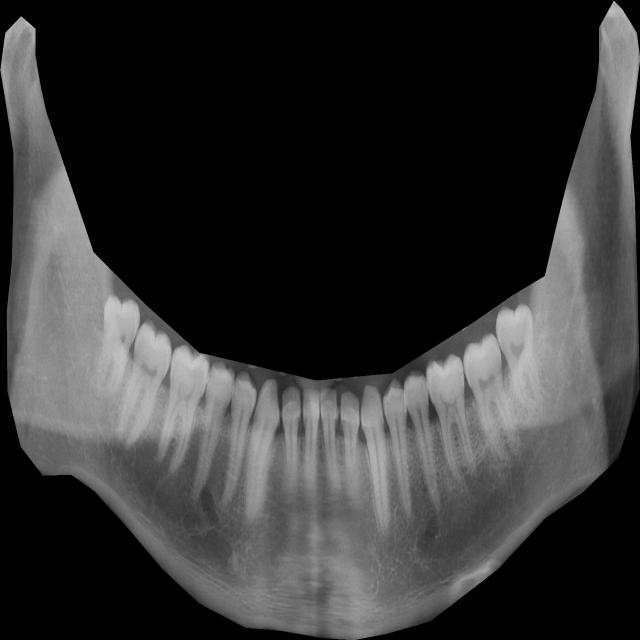mandibula: (0, 1, 640, 640)
